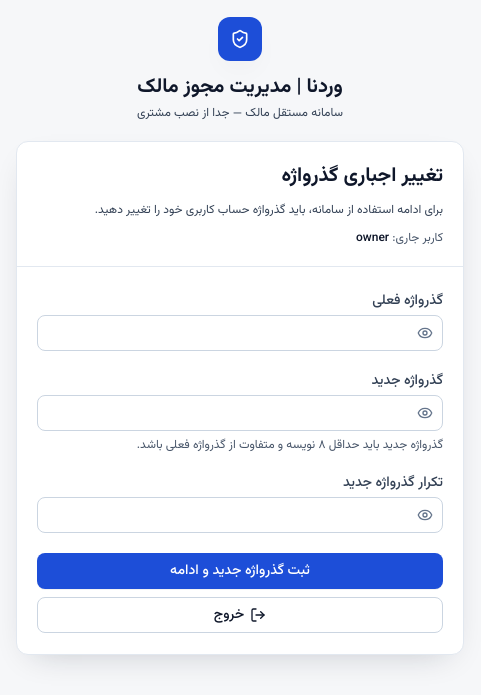
mandatory first-login password change (mocked API boundary, CI) › claims no cause when the session probe cannot answer
In the password field labelled "گذرواژه فعلی": (240, 333) [37,315,443,351], type "mistyped-current"
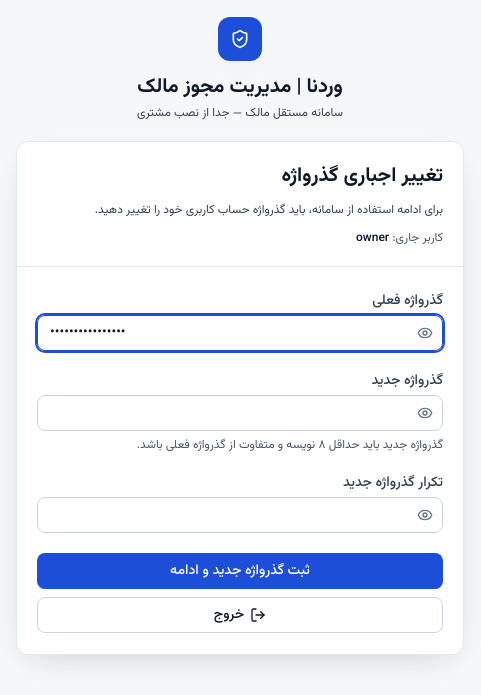
In the password field labelled "گذرواژه جدید": (240, 413) [37,395,443,431], type "Fresh_secret_52"
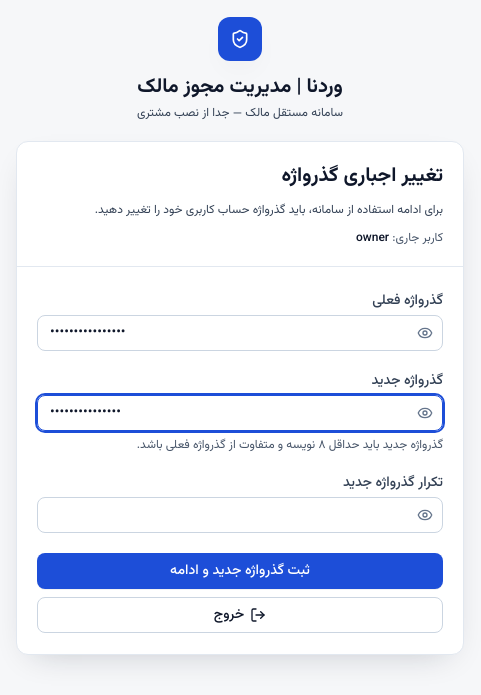
In the password field labelled "تکرار گذرواژه جدید": (240, 515) [37,497,443,533], type "Fresh_secret_52"
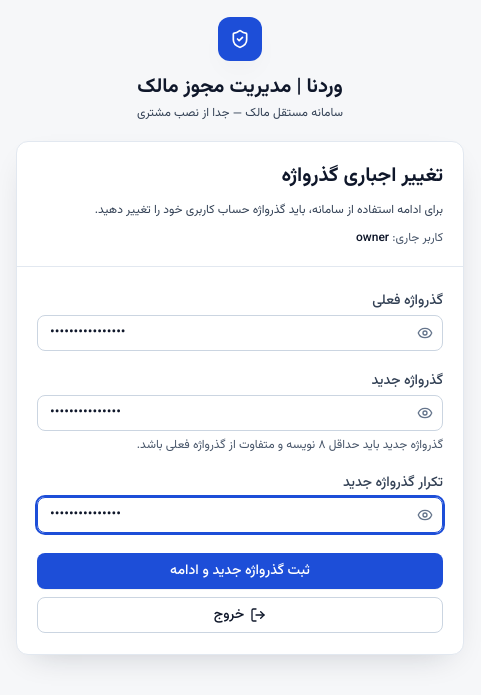
Click the button "ثبت گذرواژه جدید و ادامه": (240, 571) [37,553,443,589]
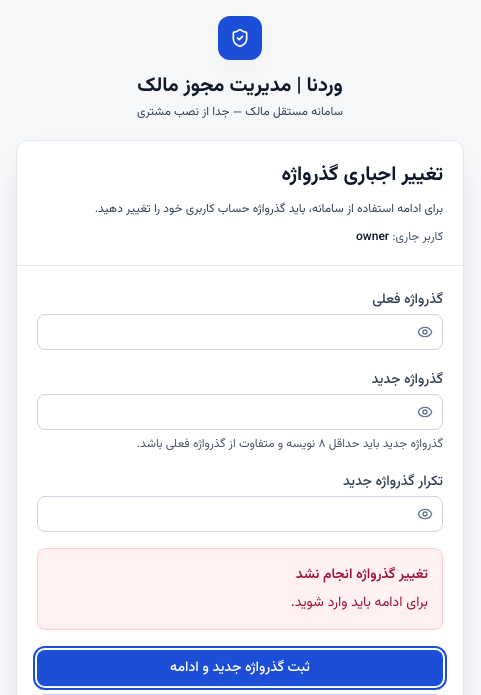
Expected: the text "برای ادامه استفاده از سامانه، باید گذرواژه حساب کاربری خود را تغییر دهید." is shown, [37,197,443,221]
Result: the text "برای ادامه باید وارد شوید." is shown at [291,592,428,614]
